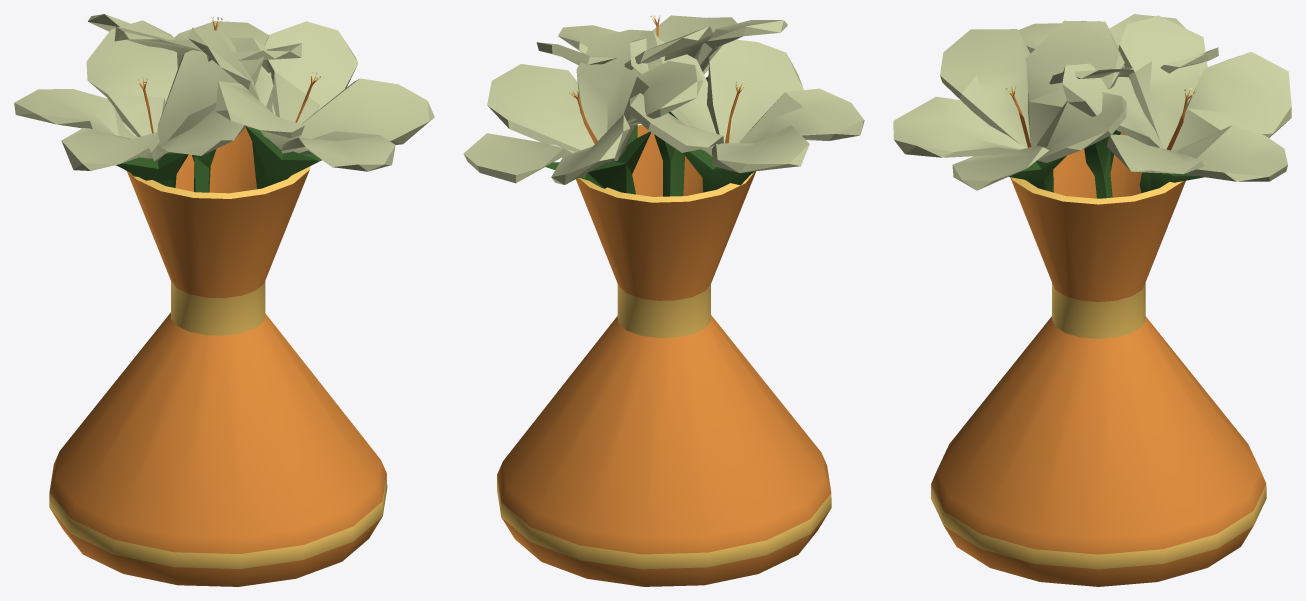
The model's file is HibiscoBranco.fbx.
The picture shows the model from 3 angles, left to right: view 1: azimuth 30°, elevation 25°; view 2: azimuth 150°, elevation 25°; view 3: azimuth 270°, elevation 25°; orthographic projection.
Parts seen in each view (by area): view 1: HibiscoBranco_LOD0; view 2: HibiscoBranco_LOD0; view 3: HibiscoBranco_LOD0.
Boxes of the visible parts, box(x1,y1,x2,y2) form: HibiscoBranco_LOD0: box(14, 14, 434, 586); HibiscoBranco_LOD0: box(463, 15, 864, 586); HibiscoBranco_LOD0: box(893, 14, 1291, 586).
Size of what is drawn, in the model's own units: 0.2685 by 0.3895 by 0.2874.
